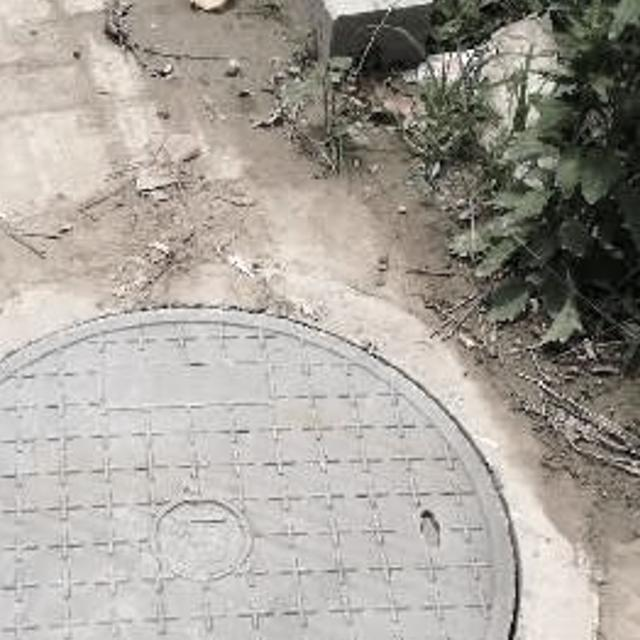good: (0, 266, 630, 640)
